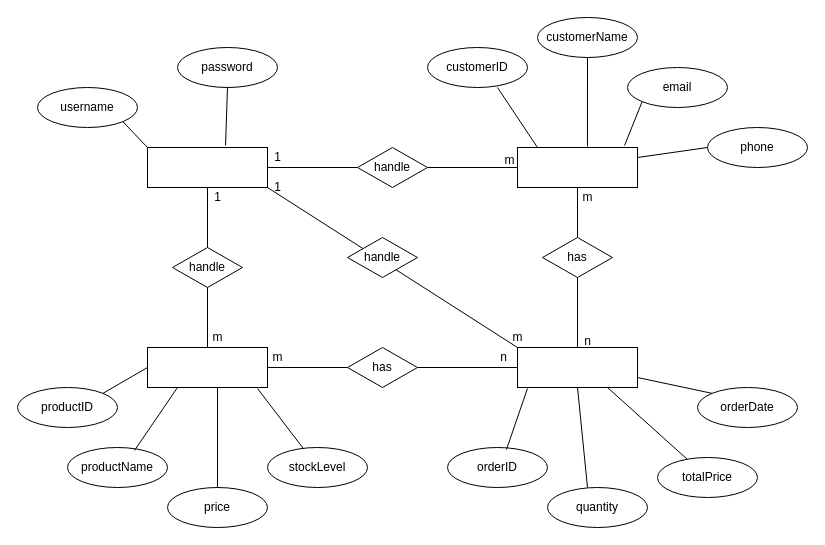
Image size: 825x545. Some labels were removed from this diagram. Each missing label, with the box of its shape:
Customer: (516, 146, 638, 188)
Product: (146, 346, 268, 388)
Sale: (516, 346, 638, 388)
User: (146, 146, 268, 188)
